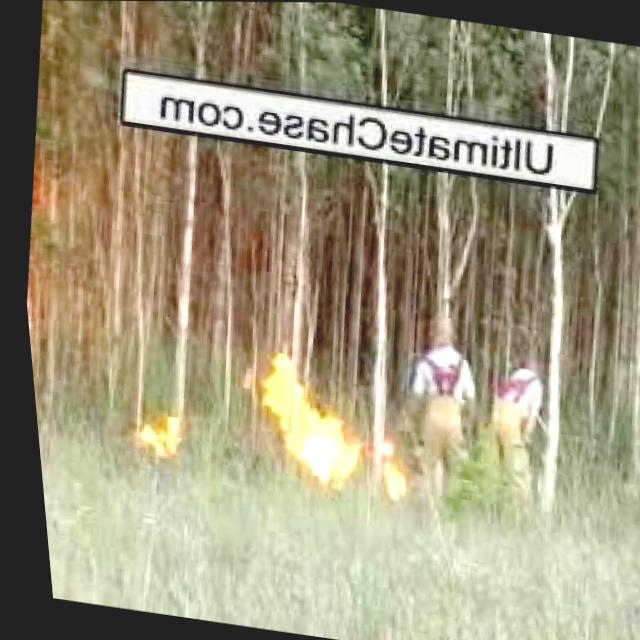no_helmet: (228, 332, 368, 488), (349, 425, 407, 503), (121, 405, 182, 468)
